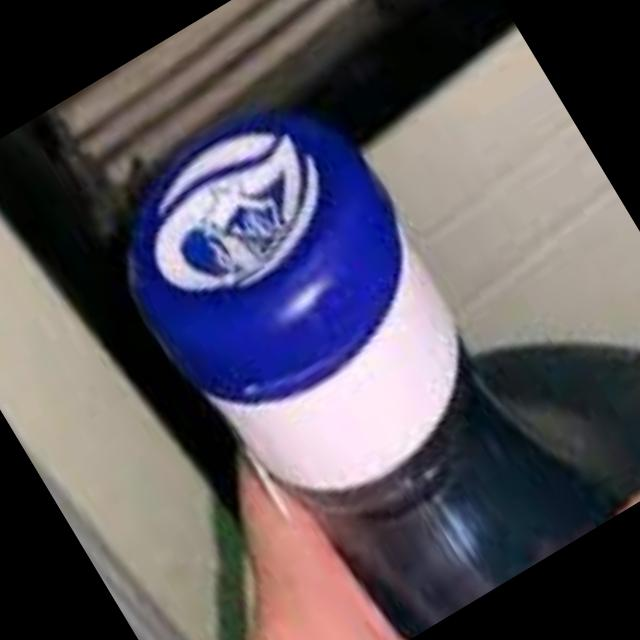TutupGalon: (61, 52, 558, 595)
